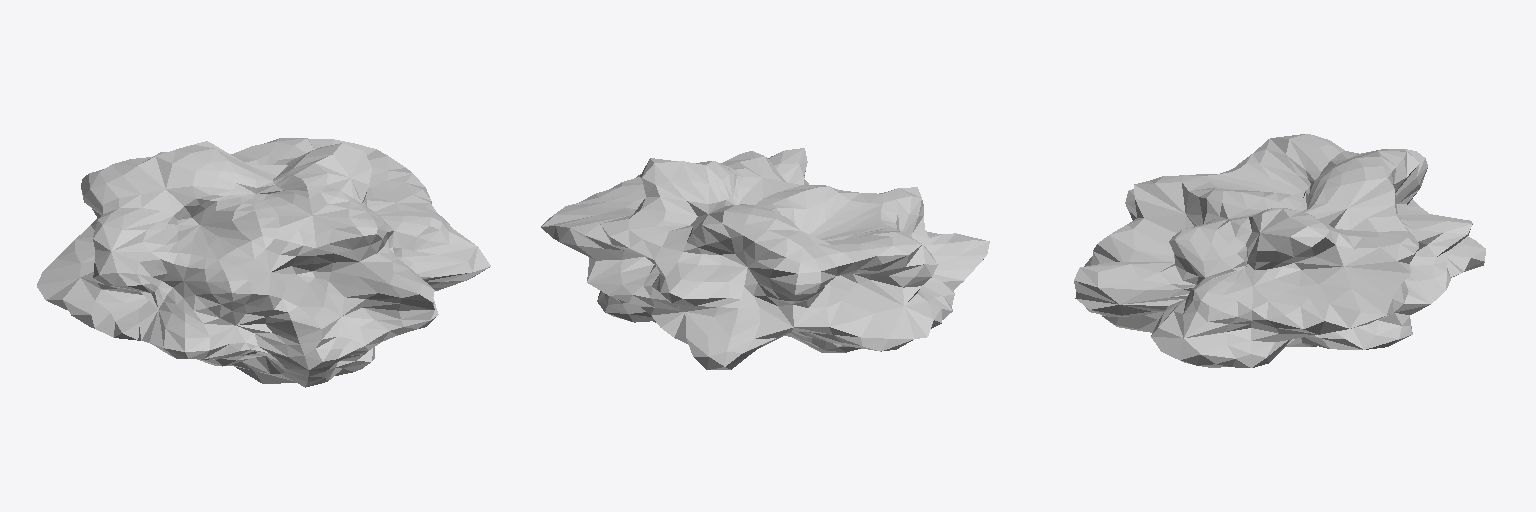
The model's file is scar_rock.obj.
The picture shows the model from 3 angles: view 1: azimuth 30°, elevation 25°; view 2: azimuth 150°, elevation 25°; view 3: azimuth 270°, elevation 25°; orthographic projection.
Visible parts, largest first — view 1: Icosphere; view 2: Icosphere; view 3: Icosphere.
Boxes of the visible parts, x1,y1,x2,y2 form: Icosphere: [37, 138, 490, 387]; Icosphere: [541, 148, 989, 369]; Icosphere: [1074, 134, 1485, 367].
Bounding box in the file's own units: 5.78 × 2.34 × 5.58.